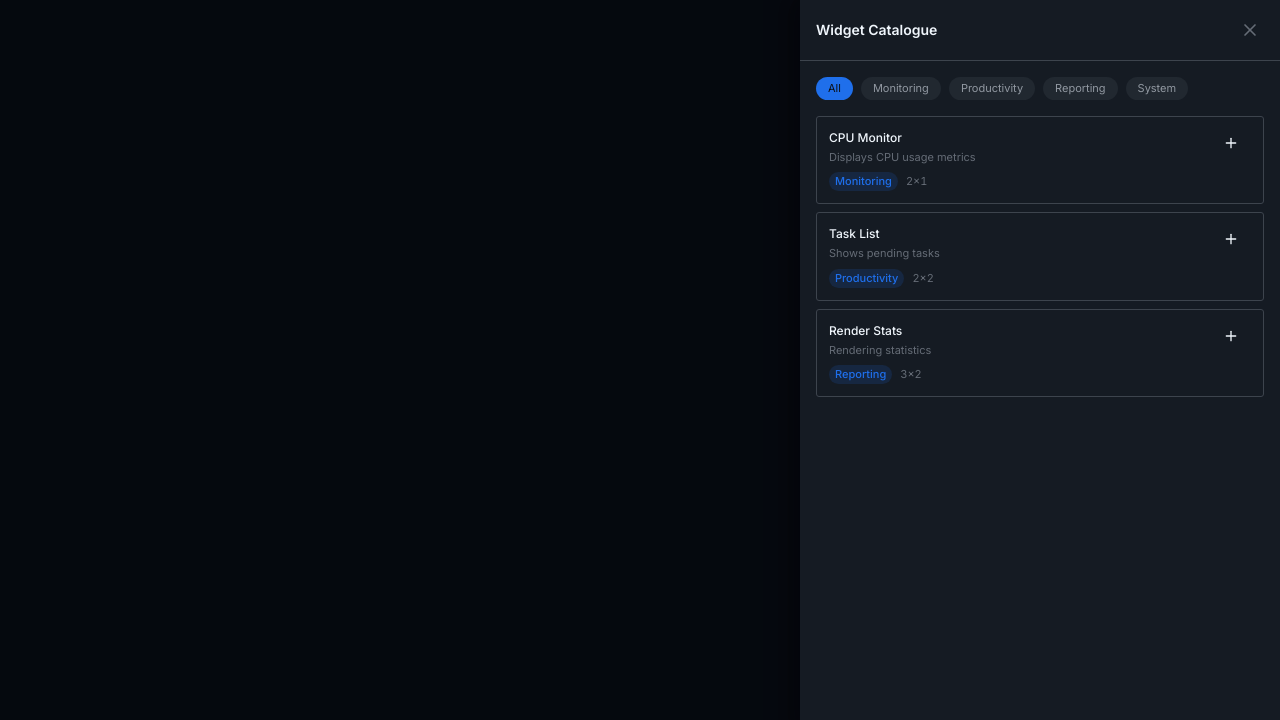
it: WidgetCatalogue › filters widgets by category
This screenshot has width=1280, height=720.
What coordinates should you click on to do the following:
click the button "Monitoring"
I would click on:
 (901, 88)
Its box is [861,77,941,100].
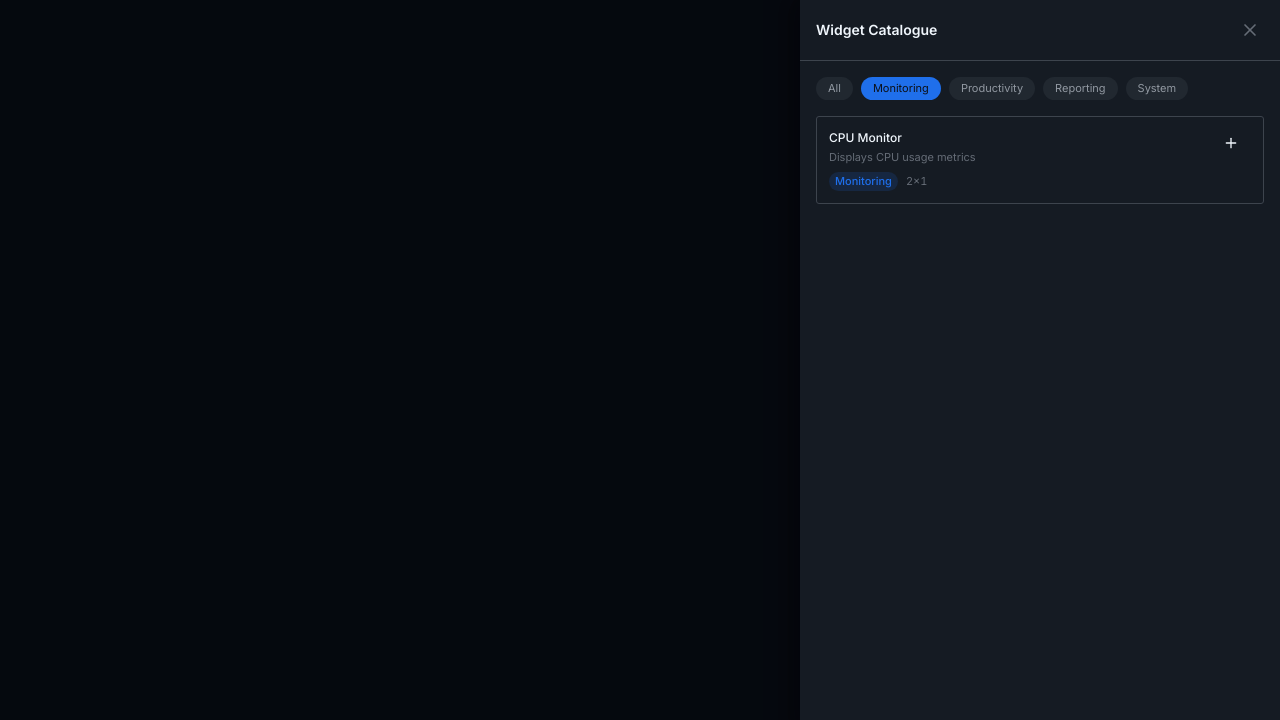
Expected: the text "CPU Monitor" is shown, [829,130,902,145]
Now the text "Task List" is gone
Now the text "Render Stats" is gone
